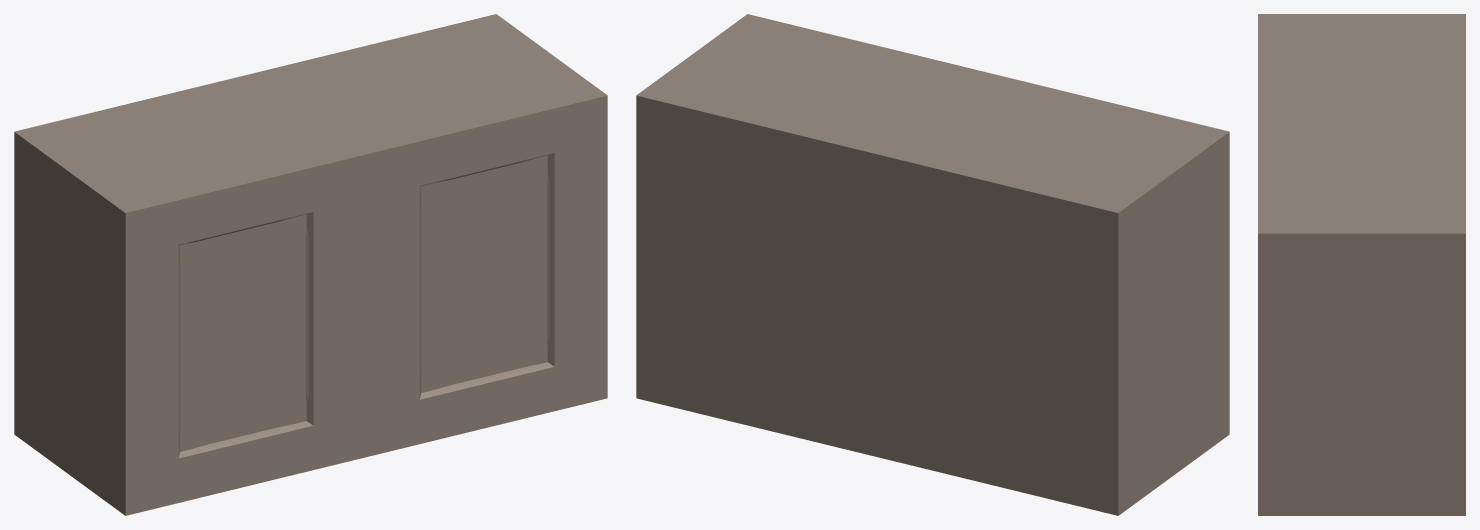
File: Wall-Cabinet-18-High-12-Deep_std_001_W30in.glb
3 views of the same model, side by side, from view 1: azimuth 30°, elevation 25°; view 2: azimuth 150°, elevation 25°; view 3: azimuth 270°, elevation 25° (orthographic). The views are drawn at different scales.
Visible parts, largest first — view 1: Wall-Cabinet-18-High-12-Deep.std.001_W30in; view 2: Wall-Cabinet-18-High-12-Deep.std.001_W30in; view 3: Wall-Cabinet-18-High-12-Deep.std.001_W30in.
Boxes of the visible parts, x1,y1,x2,y2 form: Wall-Cabinet-18-High-12-Deep.std.001_W30in: (14,14,607,515); Wall-Cabinet-18-High-12-Deep.std.001_W30in: (636,14,1229,515); Wall-Cabinet-18-High-12-Deep.std.001_W30in: (1258,14,1465,515).
Size of the model in its own units: 0.762 by 0.4572 by 0.3048.
